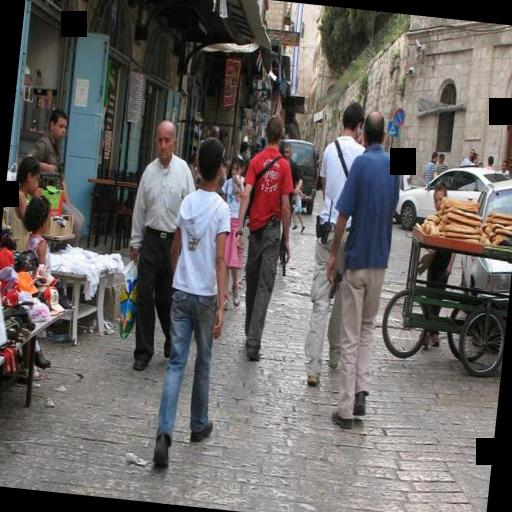Handgun: (275, 246, 291, 278)
